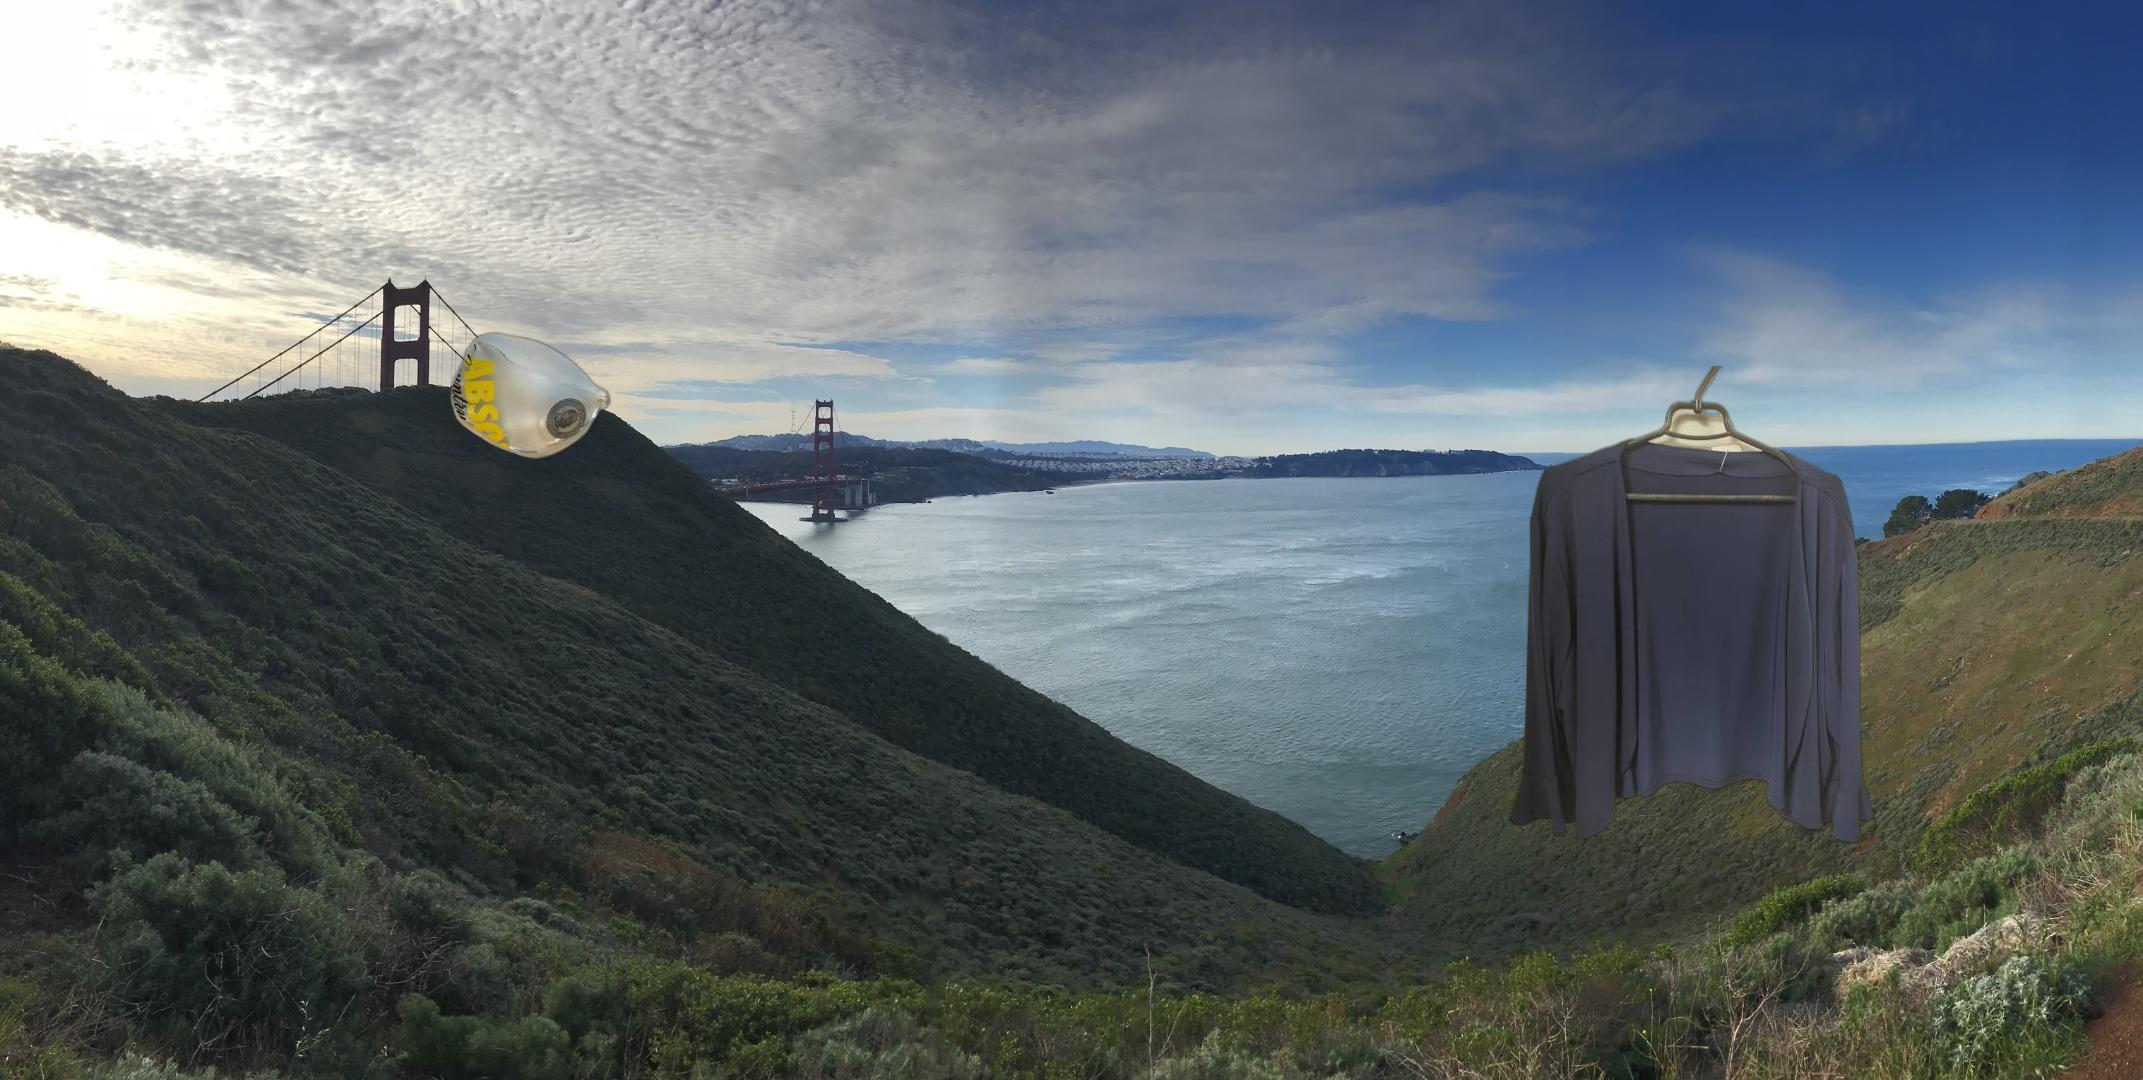clothes: (1505, 366, 1879, 847)
glass: (446, 329, 614, 463)
